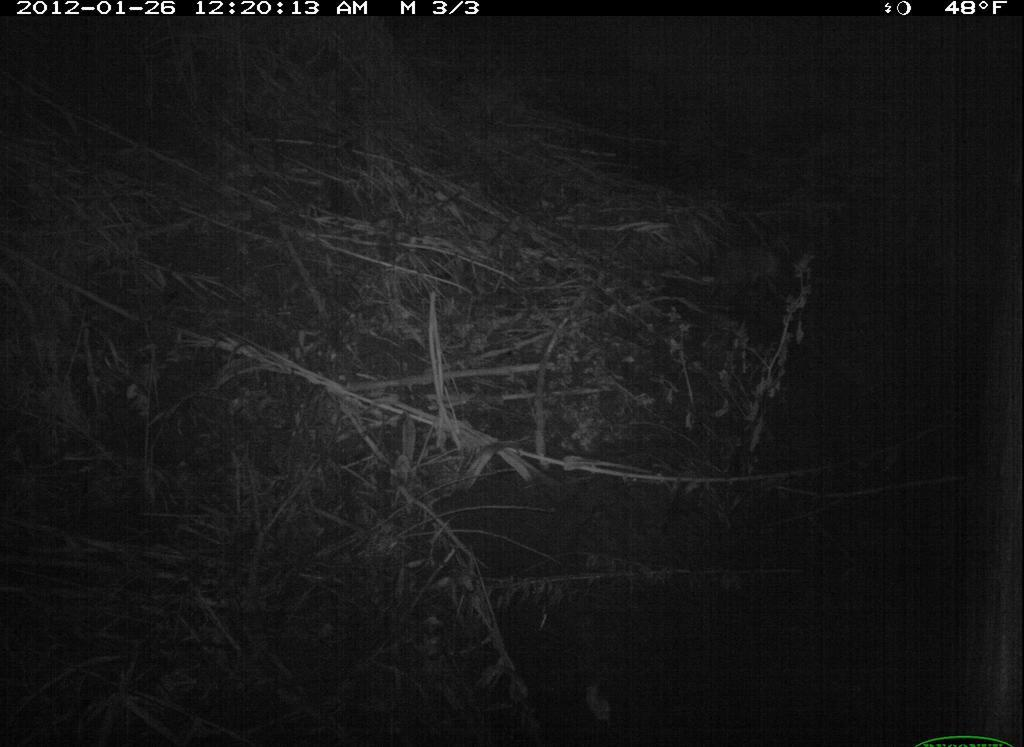opossum: (690, 222, 792, 312)
